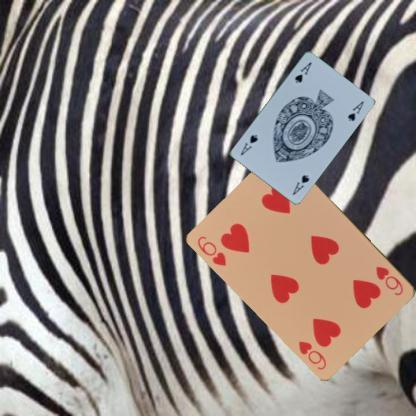6h: (195, 234, 228, 268), (373, 263, 405, 297)
As: (292, 59, 312, 84), (290, 172, 310, 196)
